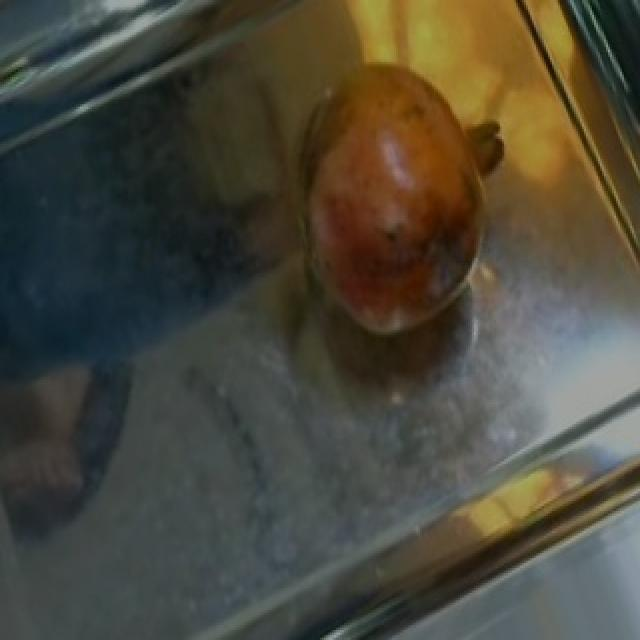fruit: (264, 32, 528, 352)
